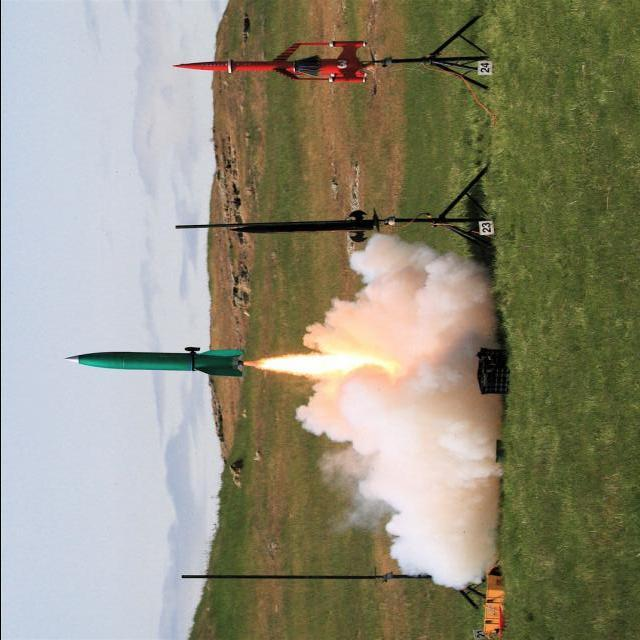Missile: (171, 40, 370, 82), (58, 346, 241, 380), (221, 211, 376, 242)
